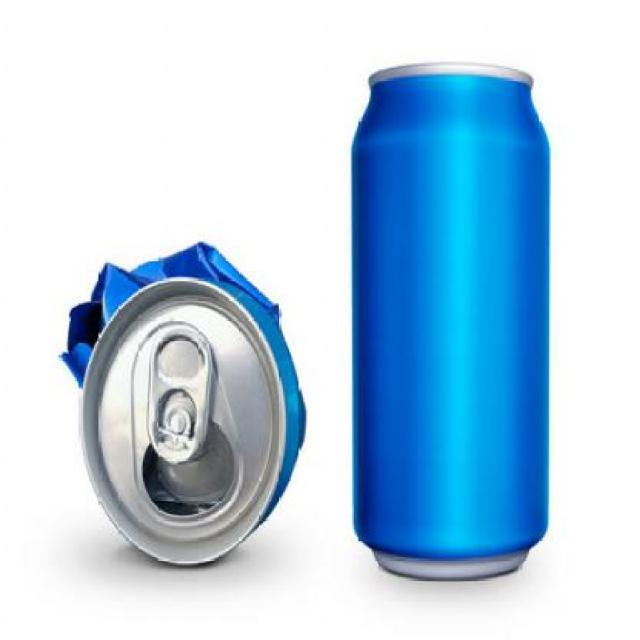can: (323, 40, 565, 606), (56, 195, 310, 594)
